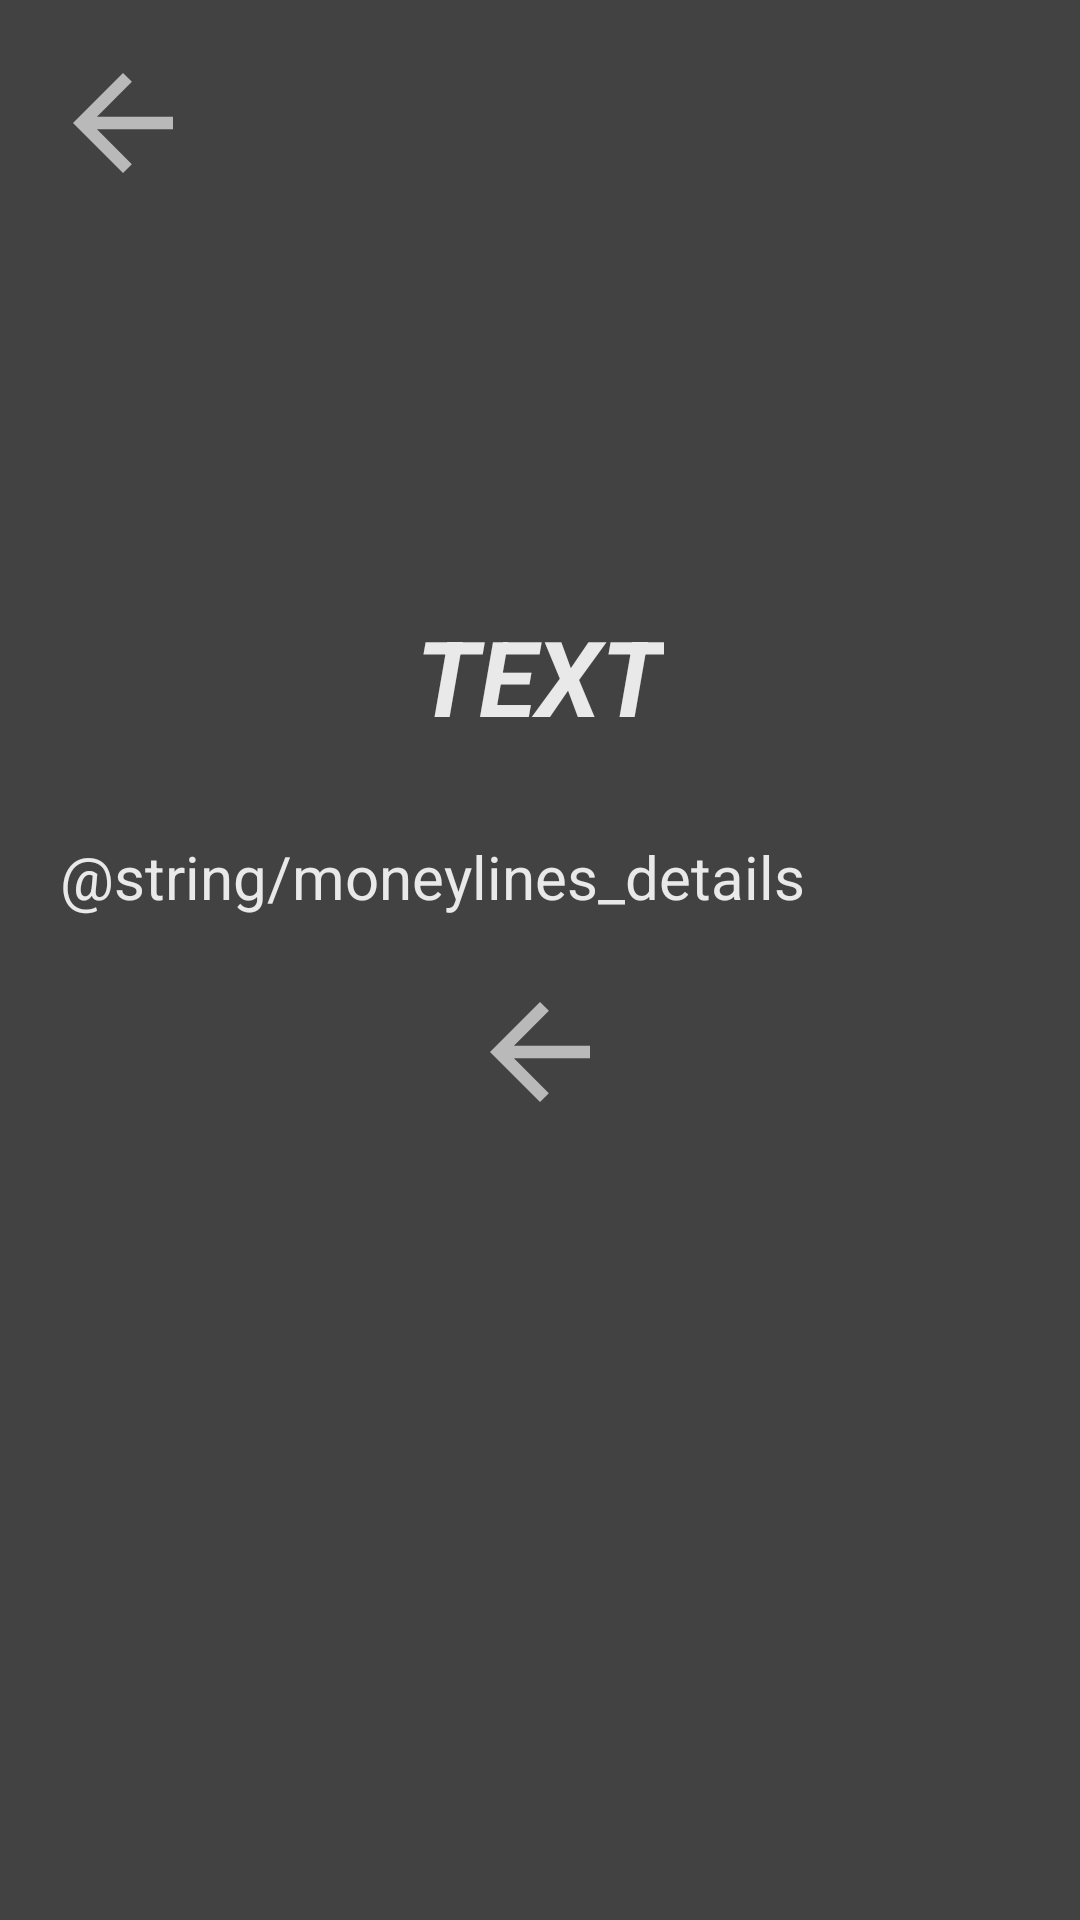

Screen size 1080 × 1920. Icon name, then its center in pixels as (x=x, y=y):
arrow back: (x=123, y=123), (x=540, y=1052)
